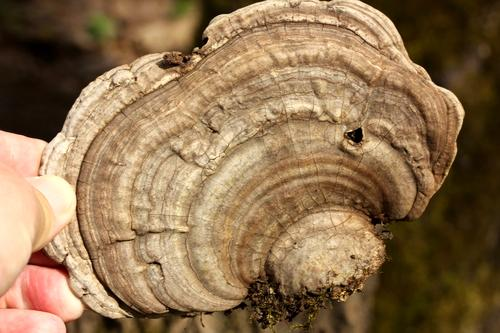Ganoderma - Fruit Body: (42, 0, 461, 320)
